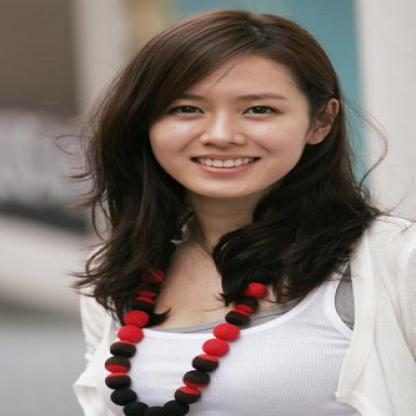long-hair: (93, 197, 364, 241)
